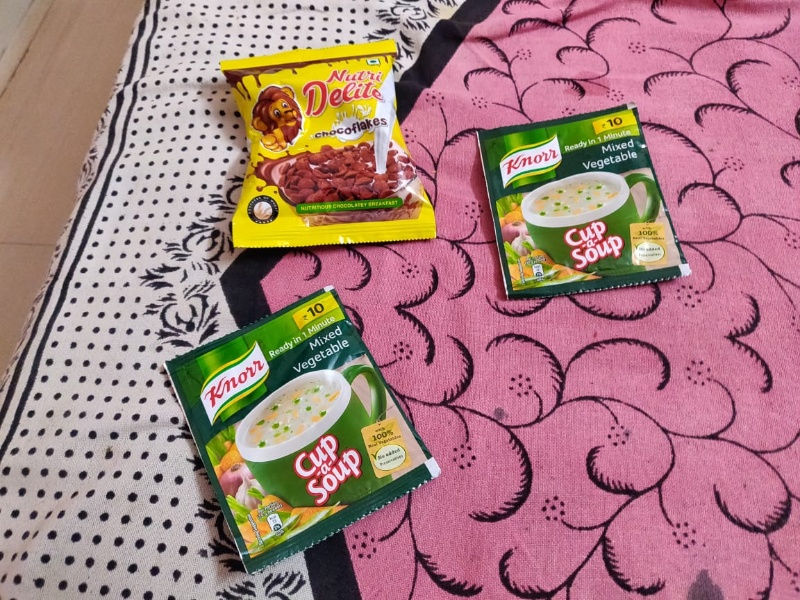Knorr_Cup_Soup: (152, 290, 436, 560), (474, 97, 689, 287)
nutriDelite: (221, 35, 439, 262)
